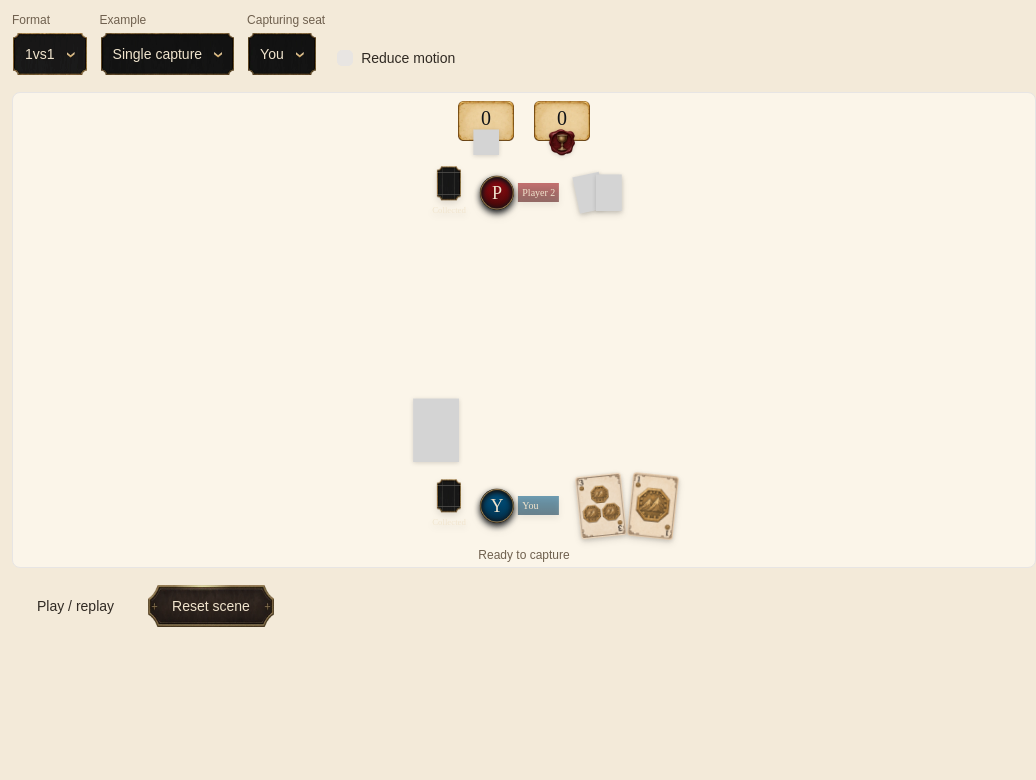
Test: waits for capture and celebration before sending exactly one clean-table award
Later steps or results of the test are not shown.
Click the button "Play / replay": {"x": 76, "y": 606} [12,584,139,628]
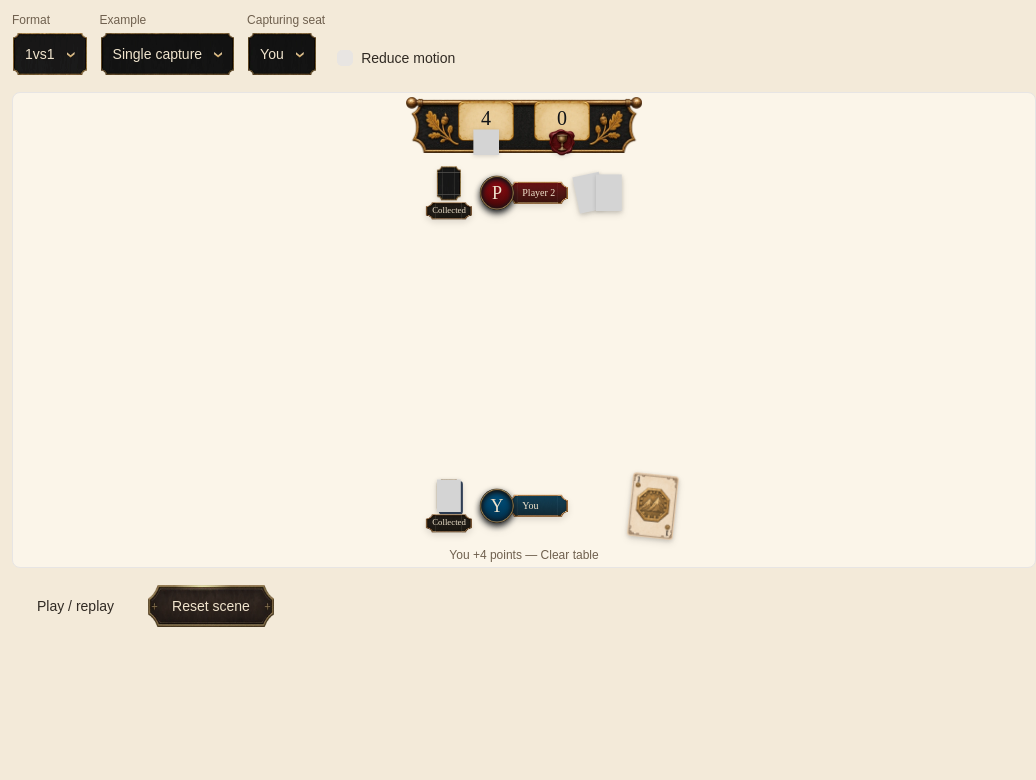
Check: the list named "Scores" shows "4", box [481,107,491,129]
